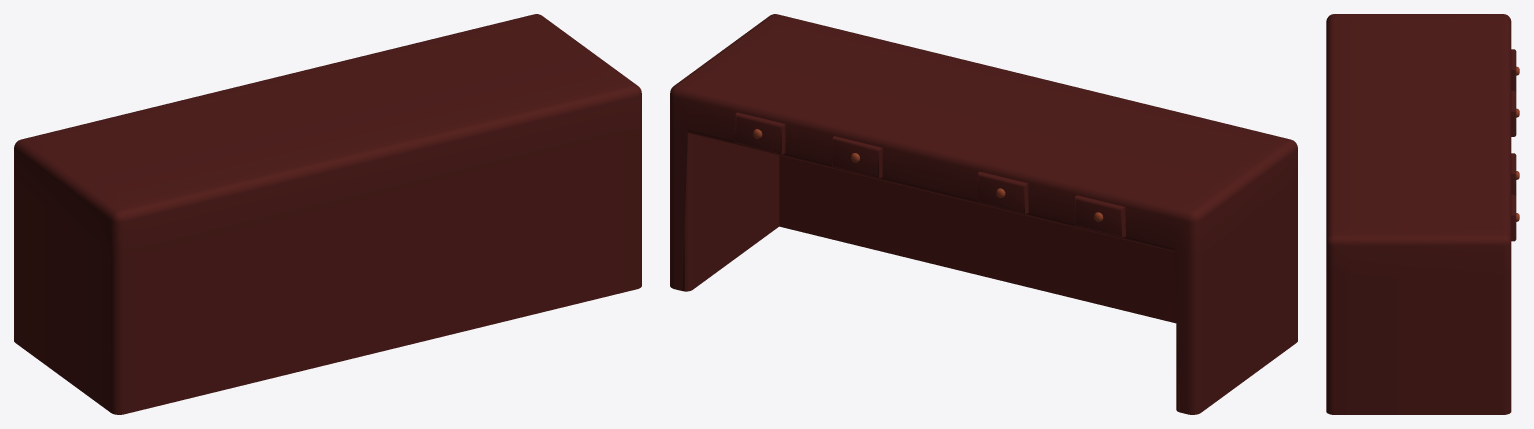
Rendered from ReceptionTable.fbx.
3 views of the same model, side by side, from view 1: azimuth 30°, elevation 25°; view 2: azimuth 150°, elevation 25°; view 3: azimuth 270°, elevation 25° (orthographic). The views are drawn at different scales.
Visible parts, largest first — view 1: ReceptionTable; view 2: ReceptionTable; view 3: ReceptionTable.
Part boxes in pixels (x1=…): ReceptionTable: x1=14, y1=14, x2=641, y2=414; ReceptionTable: x1=670, y1=14, x2=1297, y2=414; ReceptionTable: x1=1326, y1=14, x2=1519, y2=414.
Size of the model in its own units: 2.18 by 0.7891 by 0.7839.
